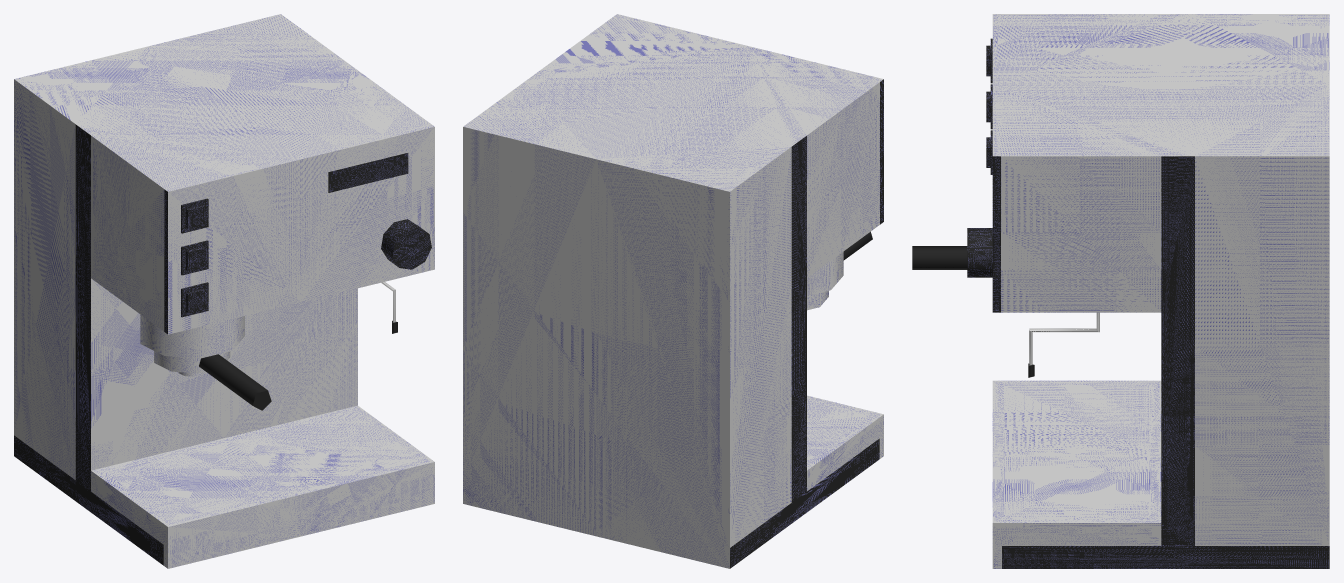
Rendered from espresso.dae.
3 views of the same model, side by side, from view 1: azimuth 30°, elevation 25°; view 2: azimuth 150°, elevation 25°; view 3: azimuth 270°, elevation 25° (orthographic). The views are drawn at different scales.
Visible parts, largest first — view 1: Espresso_Maker_Half (×4), SketchUp (×5); view 2: Espresso_Maker_Half (×4), SketchUp; view 3: Espresso_Maker_Half (×4), SketchUp (×3).
Boxes of the visible parts, x1,y1,x2,y2 form: Espresso_Maker_Half (×4): [14, 14, 434, 568]; SketchUp (×5): [140, 153, 431, 410]; Espresso_Maker_Half (×4): [463, 14, 883, 568]; SketchUp: [807, 251, 843, 295]; Espresso_Maker_Half (×4): [992, 14, 1329, 568]; SketchUp (×3): [912, 228, 1099, 365].
Size of the model in its own units: 10 by 12.39 by 13.5.
